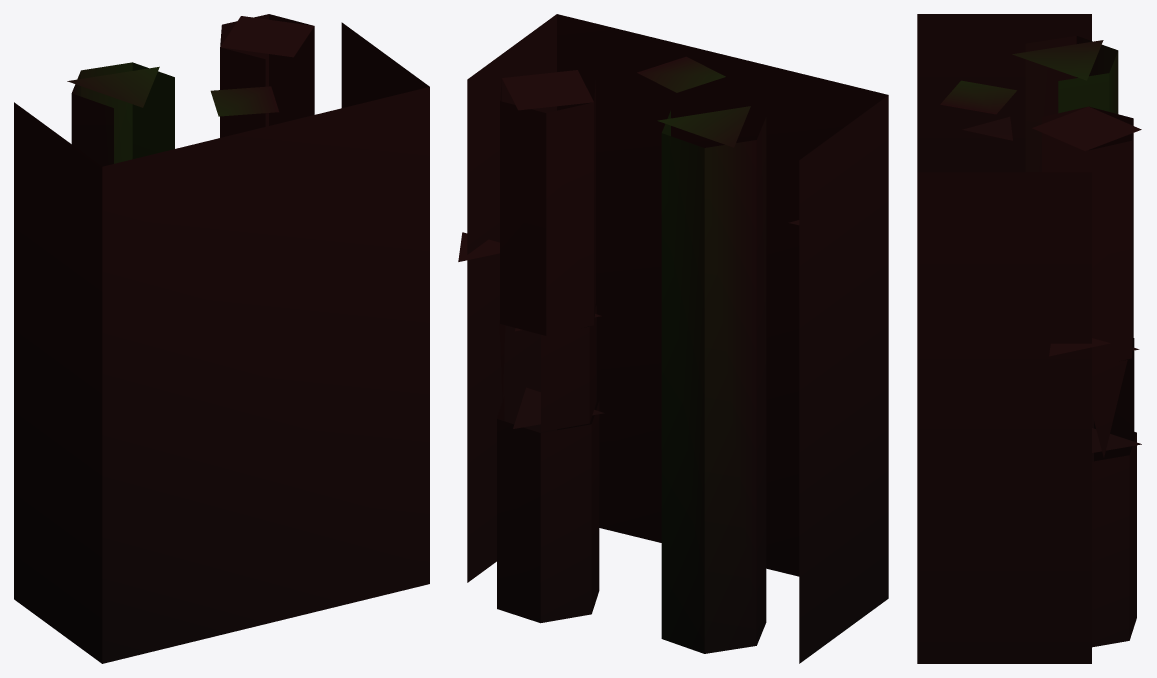
Rendered from tf_basalt_columns_m_8m_lod1.glb.
3 renders of one model, left to right at view 1: azimuth 30°, elevation 25°; view 2: azimuth 150°, elevation 25°; view 3: azimuth 270°, elevation 25°, orthographic. The views are drawn at different scales.
Parts seen in each view (by area): view 1: tf_basalt_columns_m_8m_lod1; view 2: tf_basalt_columns_m_8m_lod1; view 3: tf_basalt_columns_m_8m_lod1.
Part boxes in pixels (x1,y1,x2,y2): tf_basalt_columns_m_8m_lod1: (14,14,429,663); tf_basalt_columns_m_8m_lod1: (458,14,888,663); tf_basalt_columns_m_8m_lod1: (917,14,1141,663).
Size of the model in its own units: 6.49 by 8.81 by 3.61.
